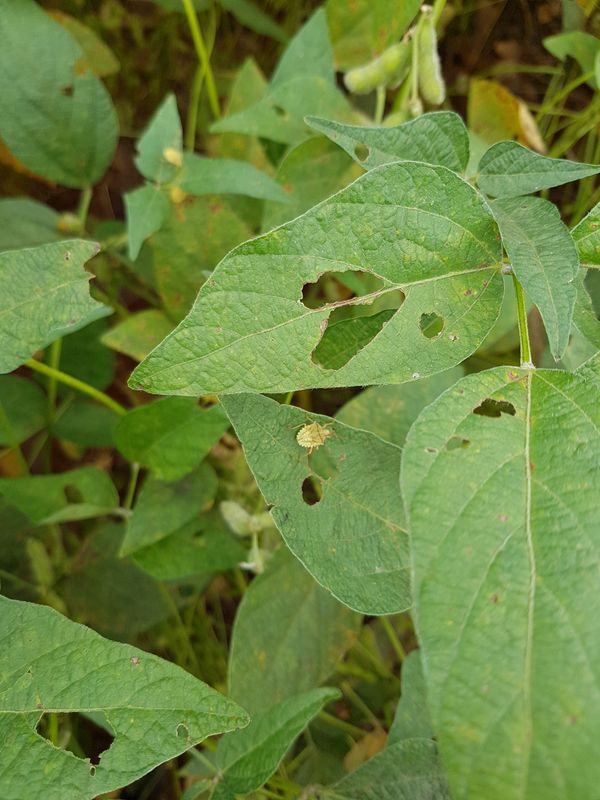Euschistus_heros_ninfa: (287, 411, 341, 459)
